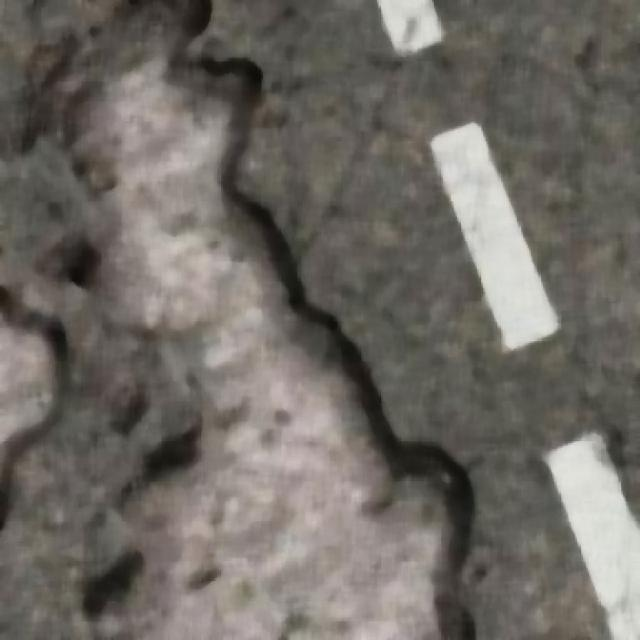Pothole: (57, 19, 460, 638)
